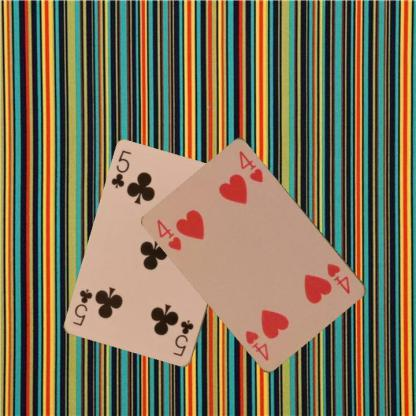4h: (154, 217, 183, 252), (324, 260, 352, 296)
5c: (170, 317, 196, 358), (109, 147, 133, 190)
